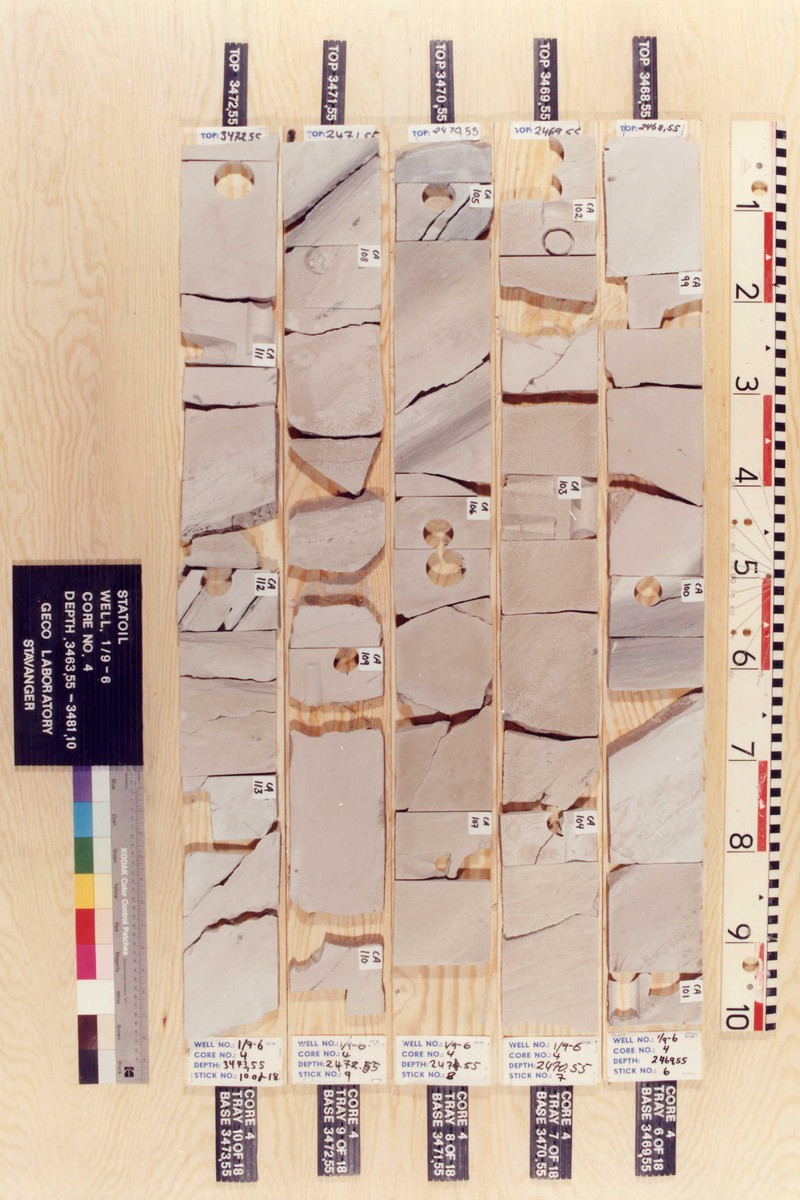core: (603, 134, 709, 1024), (502, 136, 604, 1036), (281, 138, 384, 1015), (181, 138, 277, 1034), (395, 145, 495, 967)
